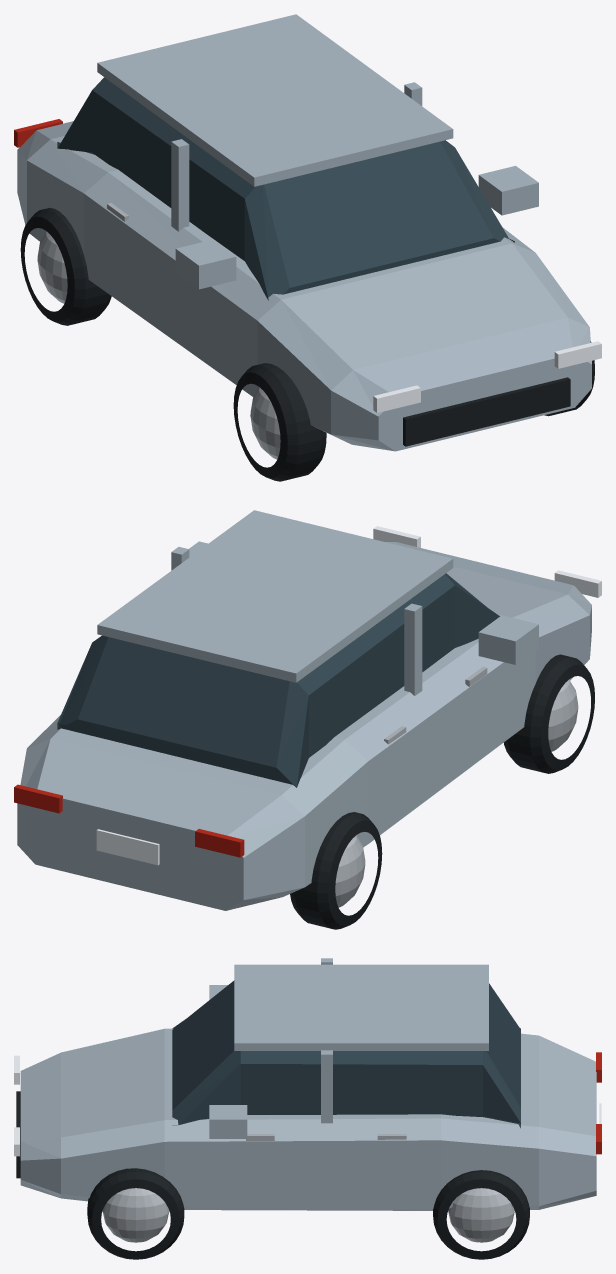
The model's file is campus_hatchback.glb.
The picture shows the model from 3 angles, top to bottom: view 1: azimuth 30°, elevation 25°; view 2: azimuth 150°, elevation 25°; view 3: azimuth 270°, elevation 25°; orthographic projection. The views are drawn at different scales.
Visible parts, largest first — view 1: body, glass, roof, wheel-front-right, lower-grille, mirror (×2), wheel-back-right, alloy-hub (×2), front-light (×2), window-pillar; view 2: body, glass, roof, wheel-front-right, wheel-back-right, alloy-hub (×2), mirror, rear-light (×2), window-pillar, number-plate, front-light (×2); view 3: body, glass, roof, alloy-hub (×2), wheel-front-left, wheel-back-left, mirror, window-pillar.
Boxes of the visible parts, left/top/right/bottom form: body: left=17, top=121, right=591, bottom=451; glass: left=57, top=77, right=514, bottom=300; roof: left=97, top=14, right=453, bottom=186; wheel-front-right: left=233, top=363, right=326, bottom=481; lower-grille: left=403, top=377, right=570, bottom=446; mirror (×2): left=175, top=165, right=538, bottom=289; wheel-back-right: left=20, top=207, right=111, bottom=325; alloy-hub (×2): left=37, top=231, right=280, bottom=459; front-light (×2): left=373, top=341, right=601, bottom=412; window-pillar: left=171, top=139, right=189, bottom=231; body: left=17, top=542, right=591, bottom=910; glass: left=57, top=573, right=499, bottom=787; roof: left=97, top=510, right=453, bottom=682; wheel-front-right: left=503, top=654, right=594, bottom=773; wheel-back-right: left=290, top=812, right=382, bottom=929; alloy-hub (×2): left=335, top=680, right=578, bottom=907; mirror: left=478, top=615, right=538, bottom=664; rear-light (×2): left=14, top=784, right=244, bottom=857; window-pillar: left=404, top=603, right=422, bottom=695; number-plate: left=96, top=829, right=159, bottom=865; front-light (×2): left=373, top=526, right=601, bottom=597; body: left=20, top=1028, right=596, bottom=1210; glass: left=172, top=980, right=520, bottom=1128; roof: left=234, top=964, right=488, bottom=1050; alloy-hub (×2): left=102, top=1188, right=514, bottom=1242; wheel-front-left: left=87, top=1168, right=184, bottom=1259; wheel-back-left: left=433, top=1170, right=529, bottom=1259; mirror: left=209, top=1105, right=247, bottom=1138; window-pillar: left=321, top=1050, right=332, bottom=1123.
Size of the model in its own units: 2.1 by 1.44 by 3.88.
